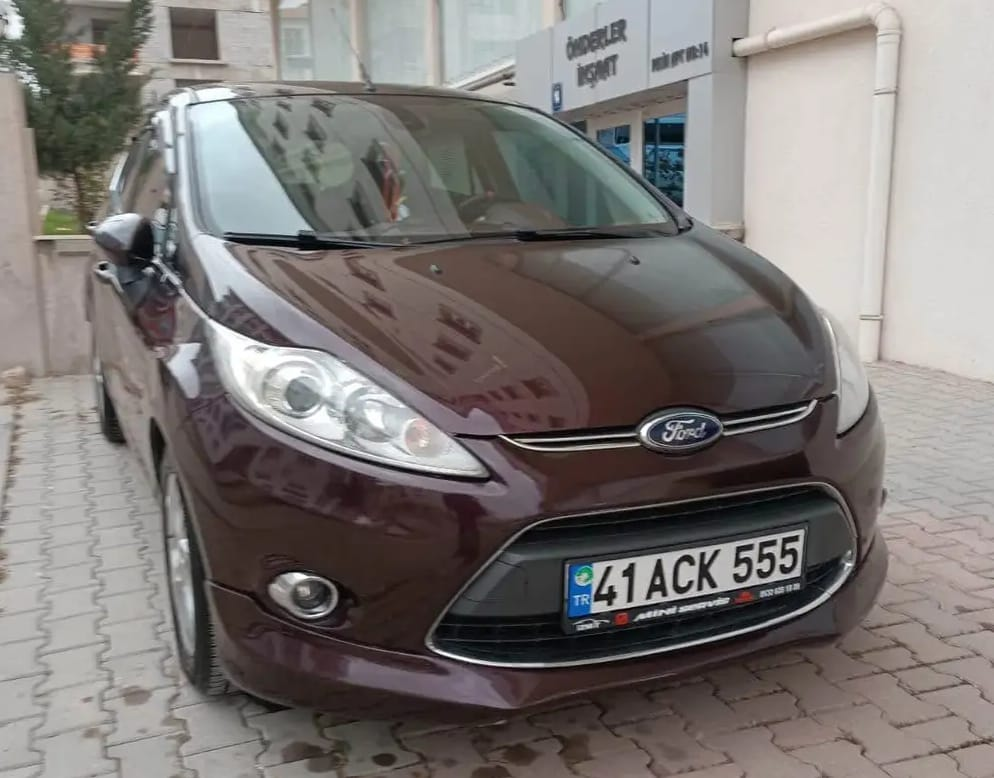plaka: (589, 525, 818, 617)
